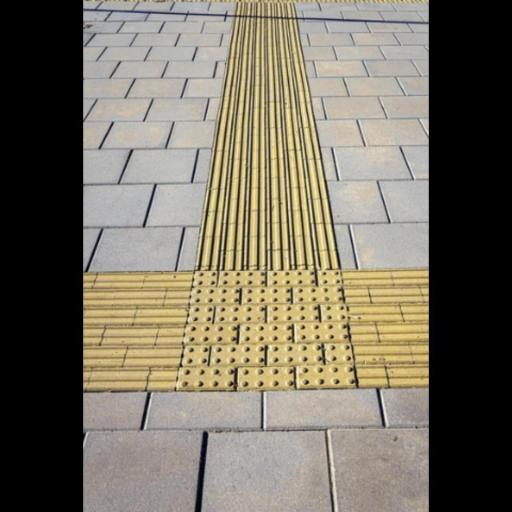dot: (180, 271, 355, 395)
